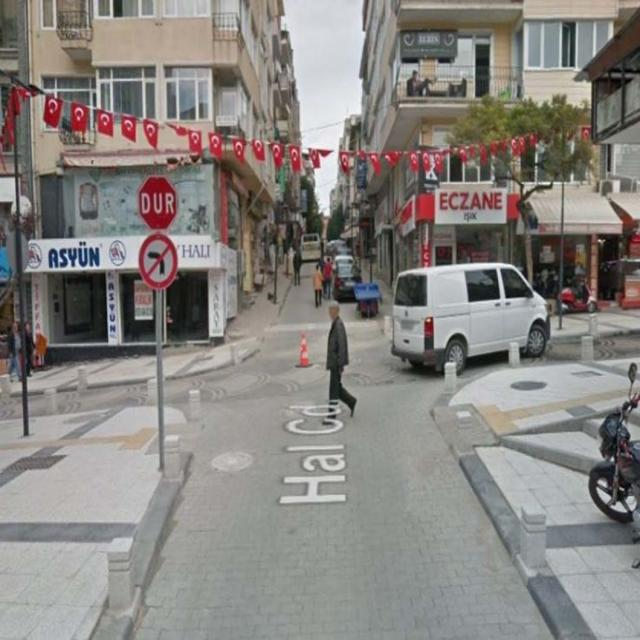dur: (137, 176, 178, 230)
soladonulmez: (138, 234, 178, 289)
